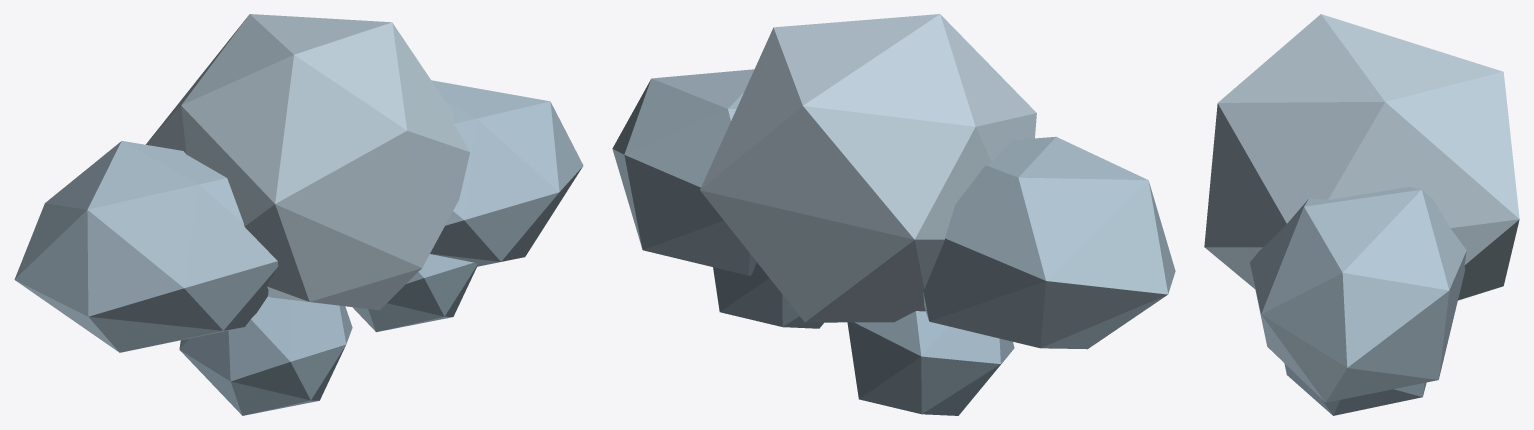
The model's file is small_cloud_5.fbx.
The picture shows the model from 3 angles, left to right: view 1: azimuth 30°, elevation 25°; view 2: azimuth 150°, elevation 25°; view 3: azimuth 270°, elevation 25°; orthographic projection. The views are drawn at different scales.
Parts seen in each view (by area): view 1: cloud_5; view 2: cloud_5; view 3: cloud_5.
Boxes of the visible parts, <box> form: cloud_5: <box>14,14,583,415</box>; cloud_5: <box>612,14,1175,415</box>; cloud_5: <box>1204,14,1519,415</box>.
Bounding box in the file's own units: 431 × 272 × 206.
